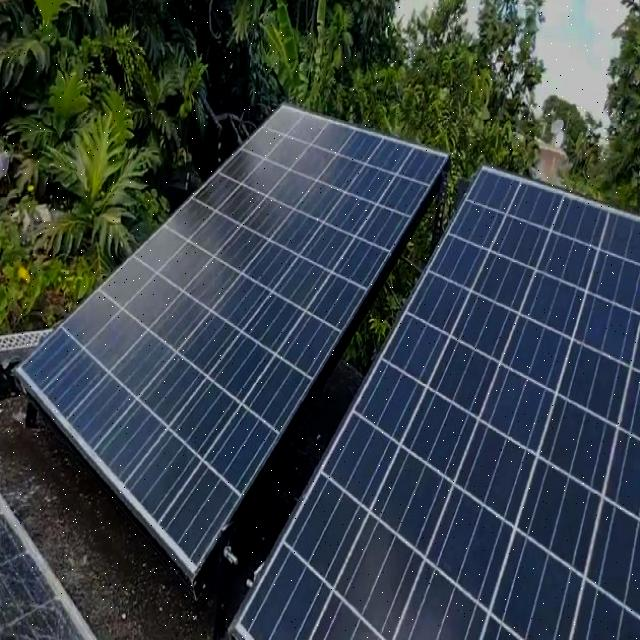Normal Solar Panel: (16, 105, 450, 587), (229, 167, 640, 640)
